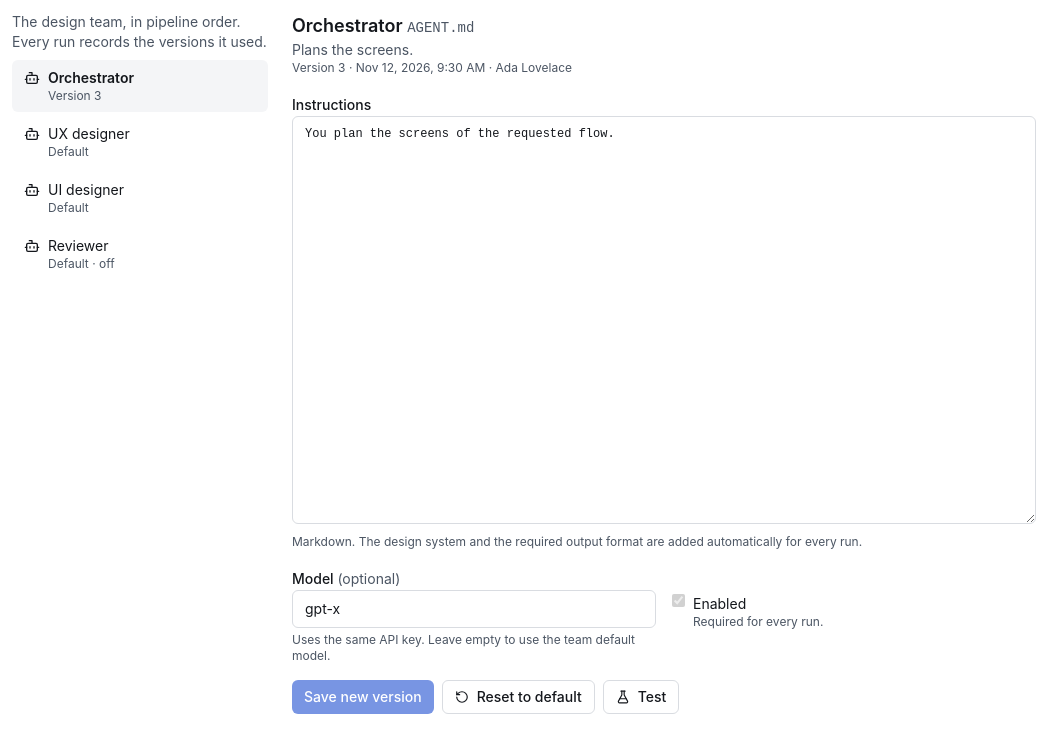
AgentsPage › shows the conflict message when the version is stale
Type " Be concise." into the text box labelled "Instructions" at (664,320), box 292,116 -> 1036,524
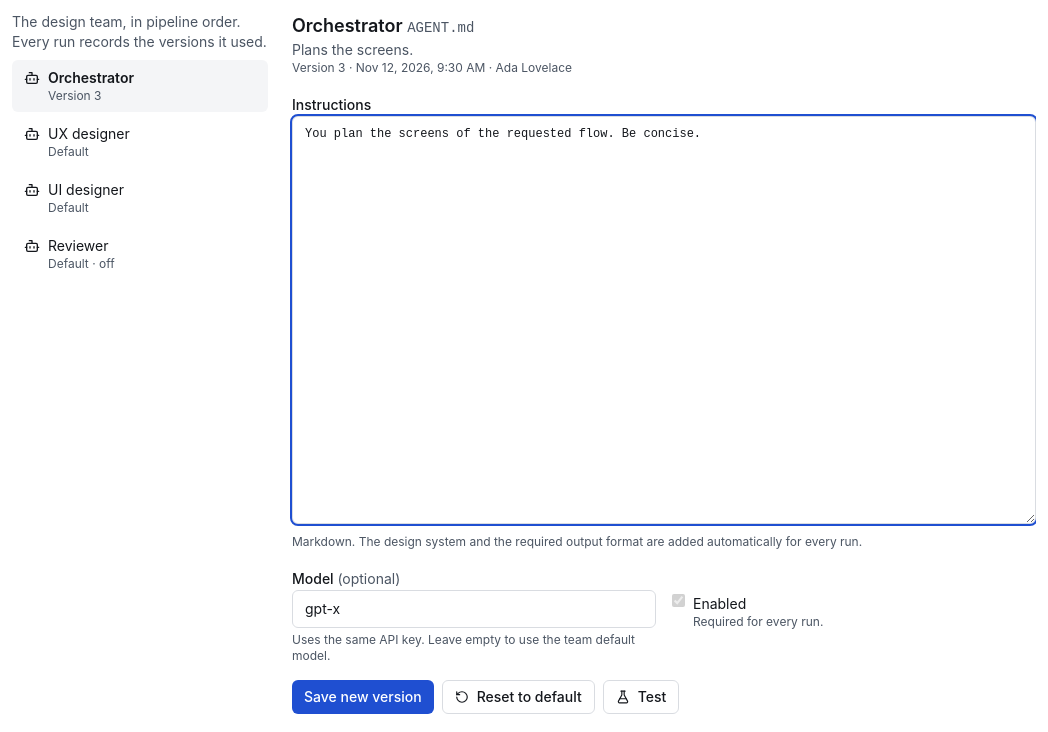
Click the button "Save new version" at (363,697), box 292,680 -> 434,714
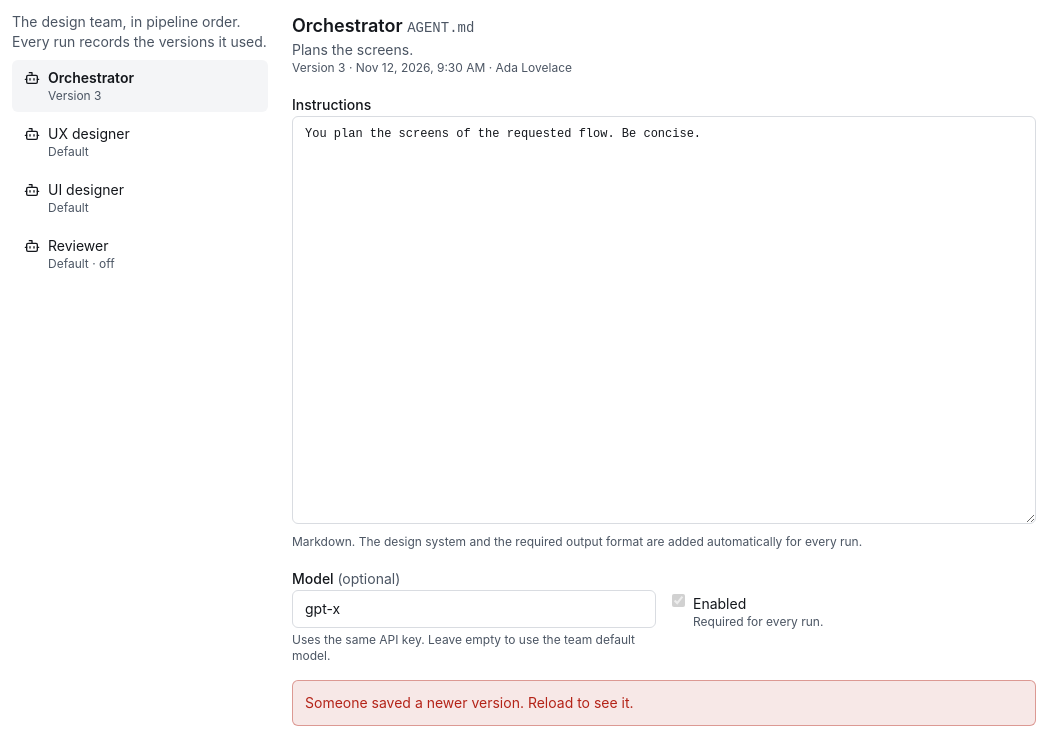
expect the message reads "Someone saved a newer version. Reload to see it.": met, box 305,694 -> 634,711
